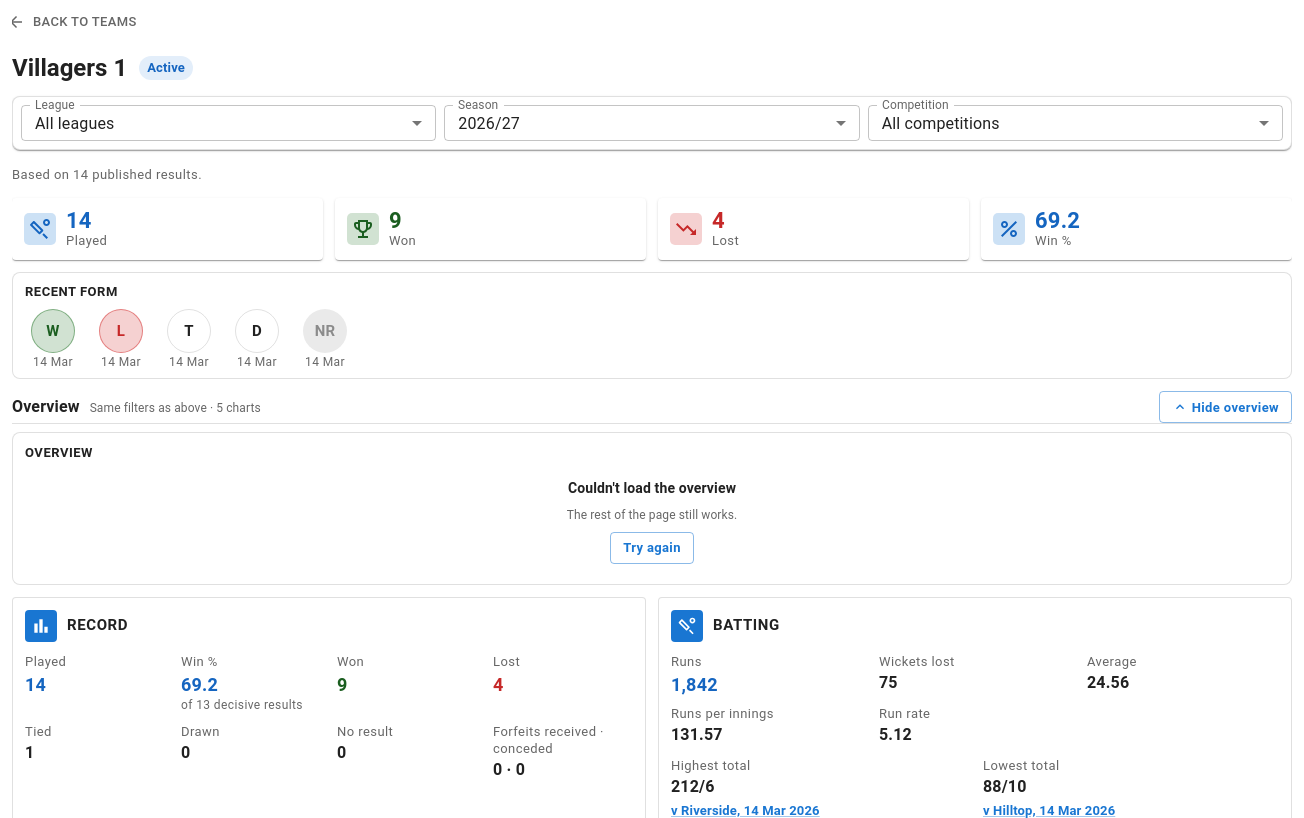
Test: Team Overview block › failure, loading and empty › a failed read is one error card with Try again, the rest of the page still works, and Try again loads the charts
Expected: the message shows "Couldn't load the overview", left=568, top=480, right=736, bottom=496
Expected: the text with test id "tile-played-value" reads "14", left=66, top=208, right=92, bottom=233
Step 1. Click the button "Try again" → point(652, 548), box left=610, top=532, right=694, bottom=564
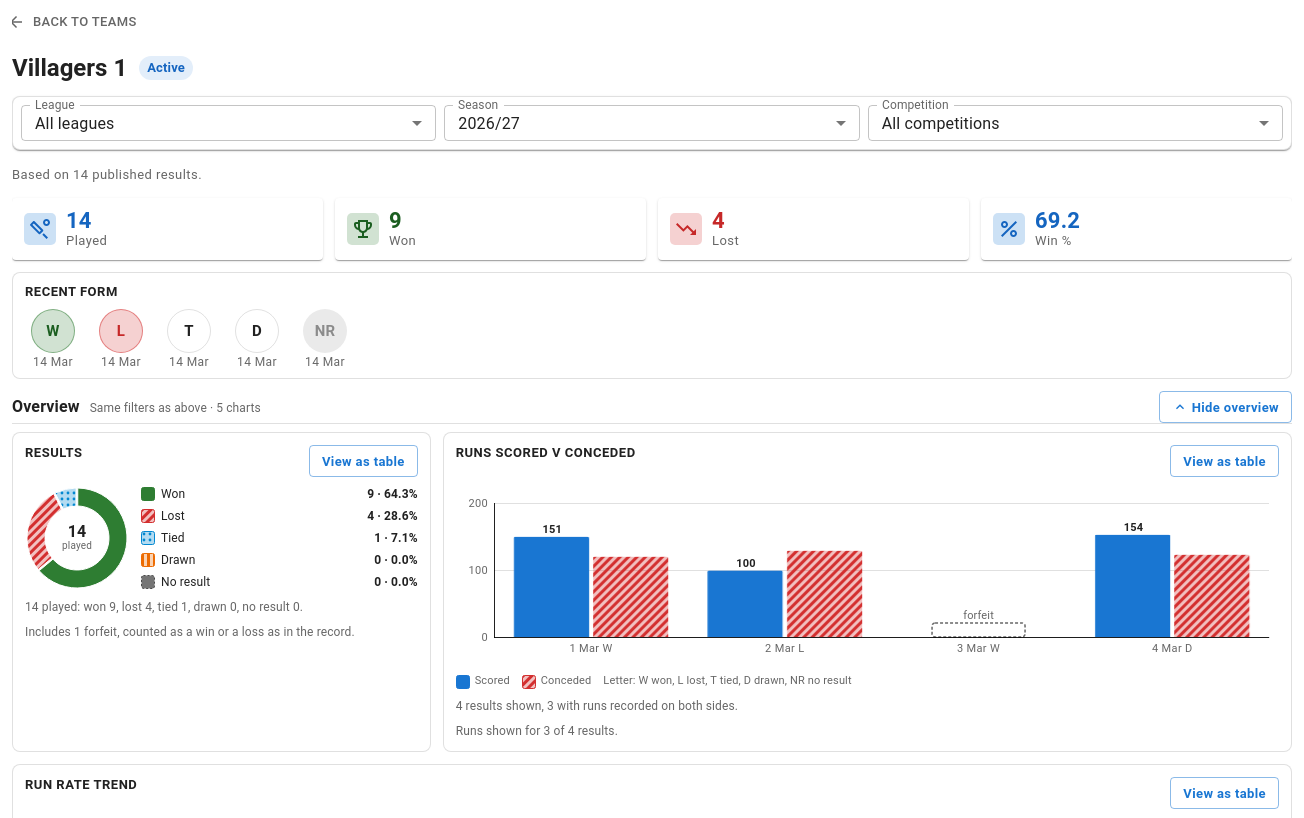
Now the element with test id "dashboard-card-results" is shown, box left=12, top=432, right=431, bottom=752
Now the message "Couldn't load the overview The rest of the page still works. Try again" is gone
